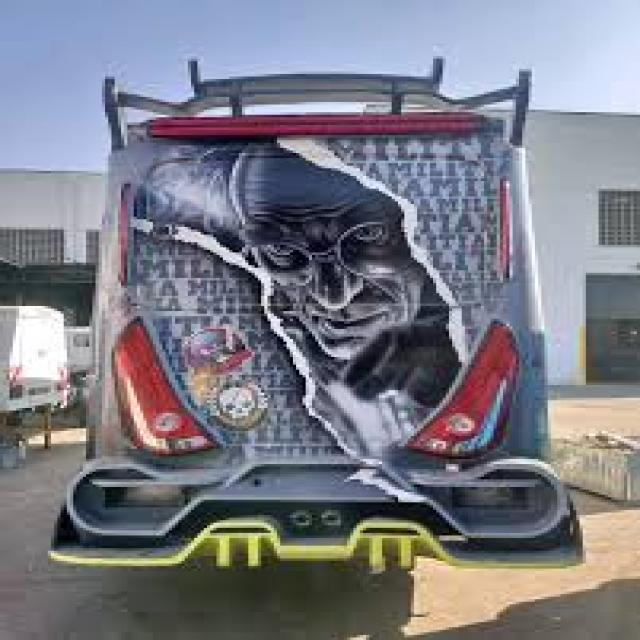bus: (42, 19, 620, 608)
